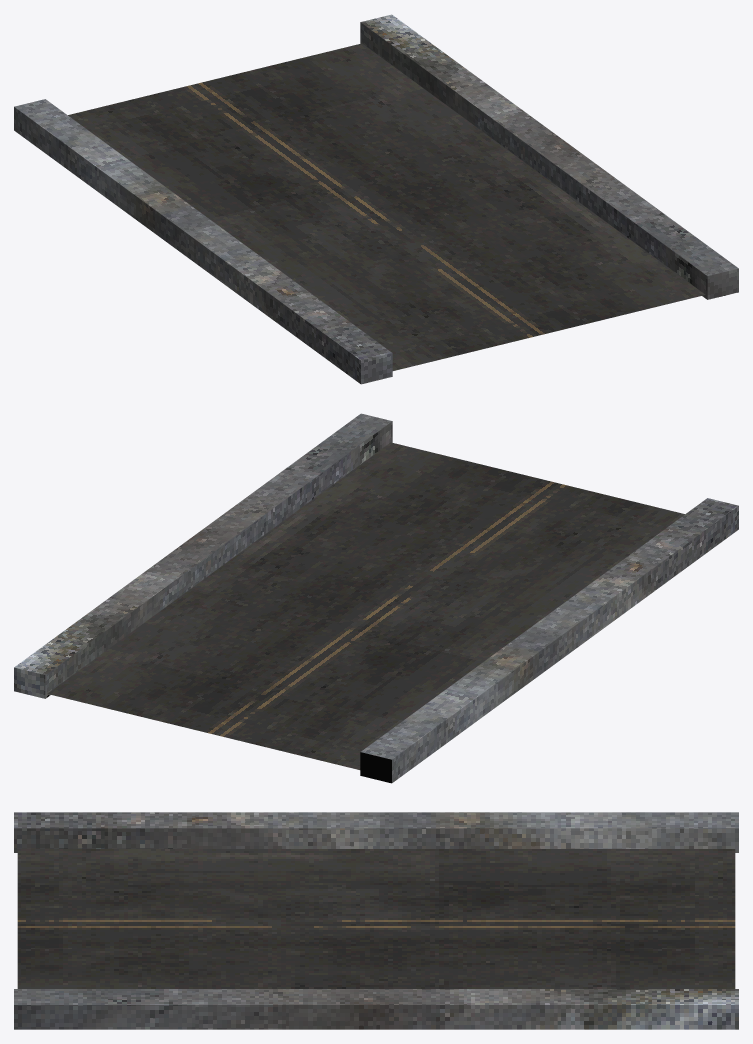
The model's file is road_new.glb.
The picture shows the model from 3 angles, top to bottom: view 1: azimuth 30°, elevation 25°; view 2: azimuth 150°, elevation 25°; view 3: azimuth 270°, elevation 25°; orthographic projection. The views are drawn at different scales.
Parts seen in each view (by area): view 1: Cube.001; view 2: Cube.001; view 3: Cube.001.
Boxes of the visible parts, x1,y1,x2,y2 form: Cube.001: (14,14,738,384); Cube.001: (14,413,738,783); Cube.001: (14,812,738,1029).
Bounding box in the file's own units: 7.86 × 0.4722 × 12.5.
1 material, 1 textured.
